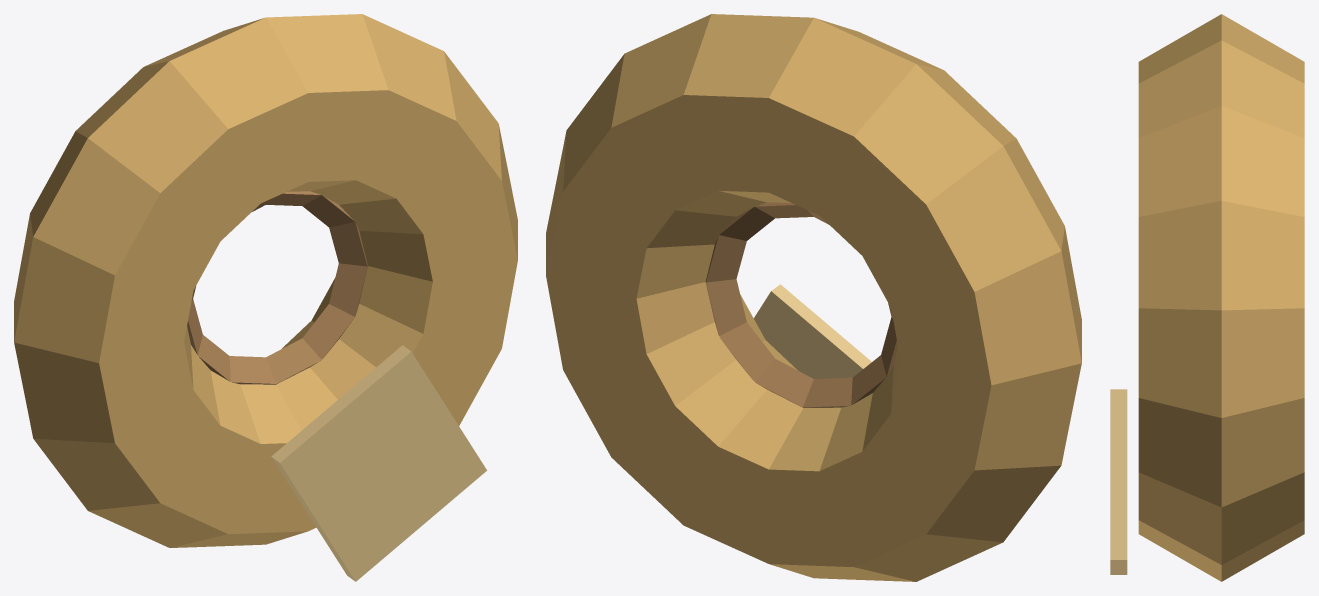
Rendered from TapeRoll.fbx.
3 views of the same model, side by side, from view 1: azimuth 30°, elevation 25°; view 2: azimuth 150°, elevation 25°; view 3: azimuth 270°, elevation 25° (orthographic). The views are drawn at different scales.
Parts seen in each view (by area): view 1: Tape, Strip, Core; view 2: Tape, Core, Strip; view 3: Tape, Strip.
Part boxes in pixels (x1=…): Tape: x1=14, y1=14, x2=517, y2=547; Strip: x1=271, y1=345, x2=486, y2=581; Core: x1=187, y1=191, x2=367, y2=384; Tape: x1=546, y1=14, x2=1081, y2=581; Core: x1=705, y1=202, x2=897, y2=407; Strip: x1=754, y1=284, x2=871, y2=378; Tape: x1=1138, y1=14, x2=1304, y2=581; Strip: x1=1110, y1=389, x2=1127, y2=574.
Size of the model in its own units: 1.66 by 1.67 by 0.5675.
